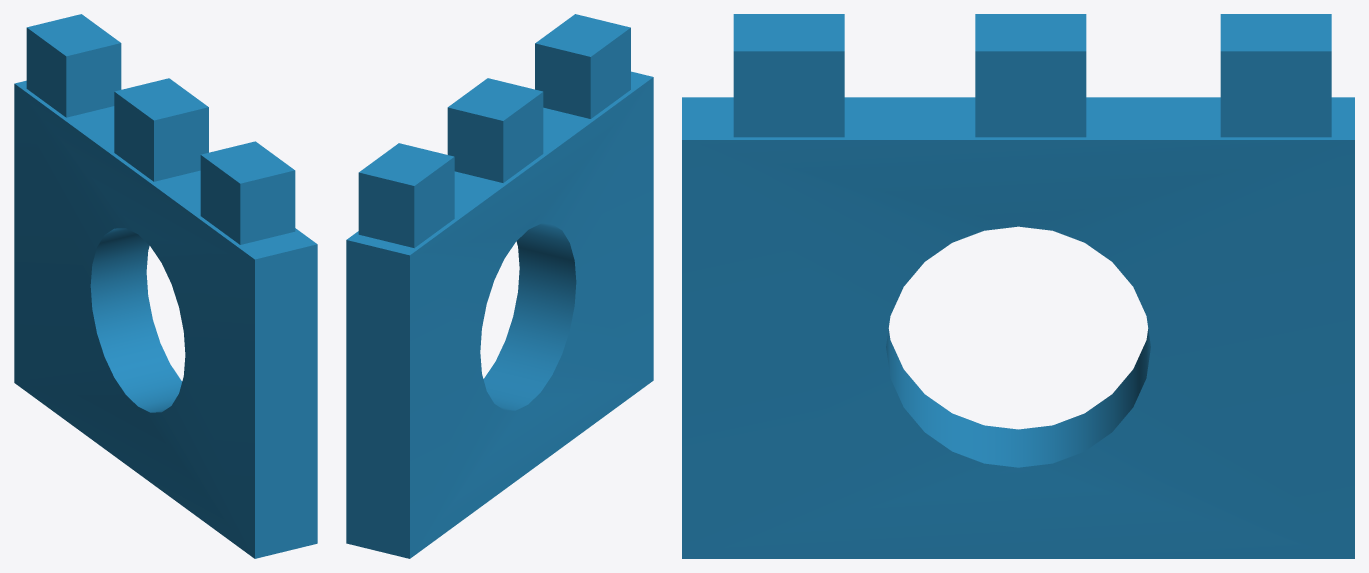
File: Tower4_blue.fbx
3 views of the same model, side by side, from view 1: azimuth 30°, elevation 25°; view 2: azimuth 150°, elevation 25°; view 3: azimuth 270°, elevation 25° (orthographic). The views are drawn at different scales.
Parts seen in each view (by area): view 1: Cube.036; view 2: Cube.036; view 3: Cube.036.
Boxes of the visible parts, <box> form: Cube.036: <box>14,14,317,558</box>; Cube.036: <box>346,14,653,558</box>; Cube.036: <box>682,14,1354,558</box>.
Bounding box in the file's own units: 0.7595 × 5.05 × 4.18.
